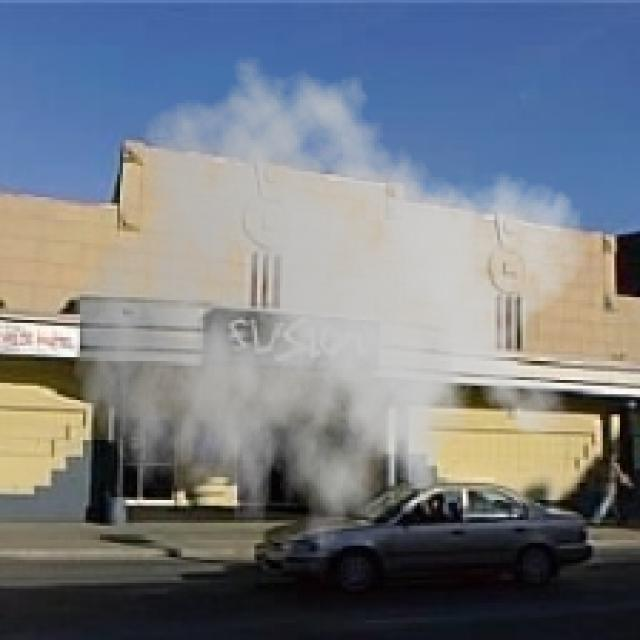Smoke: (71, 43, 588, 583)
